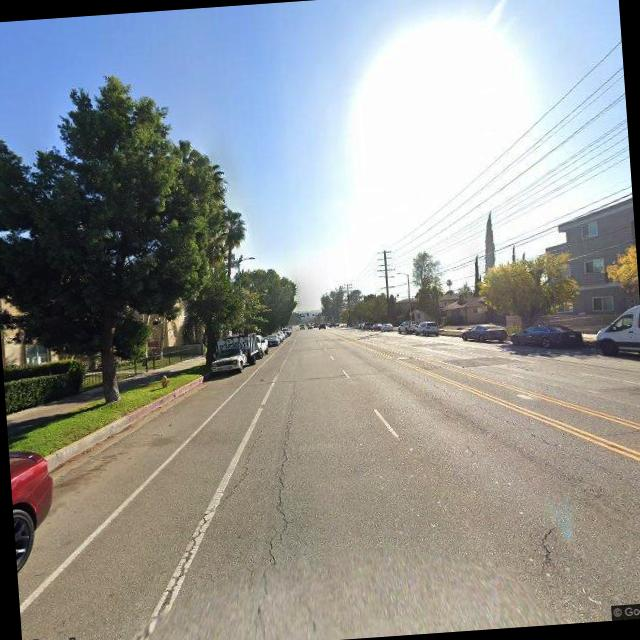crack: (134, 428, 268, 635), (431, 362, 609, 482), (233, 379, 315, 612), (573, 421, 640, 443)
